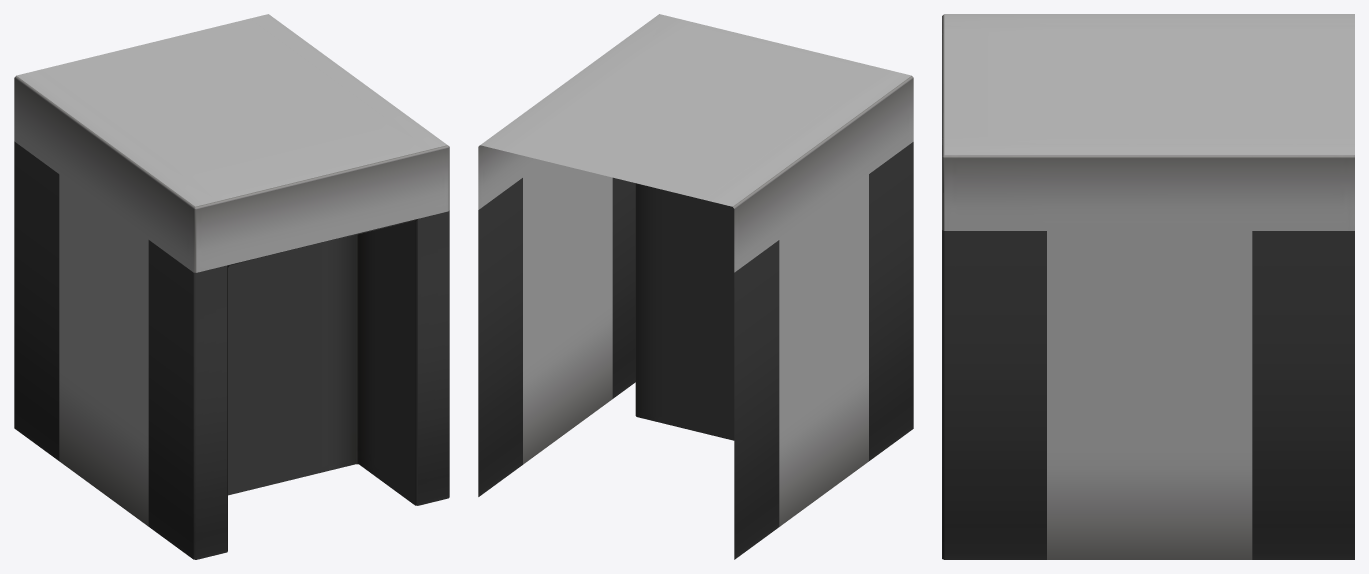
Rendered from Main Conveyor.fbx.
3 renders of one model, left to right at view 1: azimuth 30°, elevation 25°; view 2: azimuth 150°, elevation 25°; view 3: azimuth 270°, elevation 25°, orthographic. The views are drawn at different scales.
Parts seen in each view (by area): view 1: Main Conveyor; view 2: Main Conveyor; view 3: Main Conveyor.
Part boxes in pixels (x1,y1,x2,y2): Main Conveyor: (14,14,449,559); Main Conveyor: (478,14,913,559); Main Conveyor: (942,14,1354,559).
Bounding box in the file's own units: 615 × 809 × 750.
